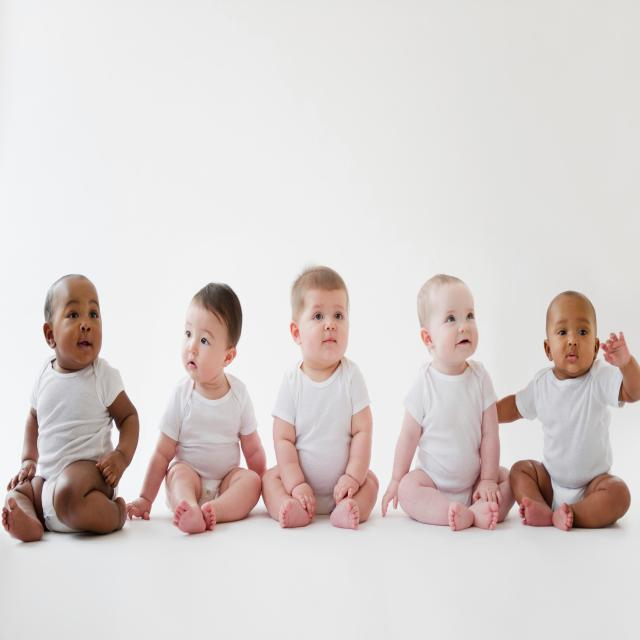child: (2, 266, 142, 543), (120, 281, 264, 533), (494, 288, 640, 532), (379, 273, 516, 530), (260, 268, 377, 530)
